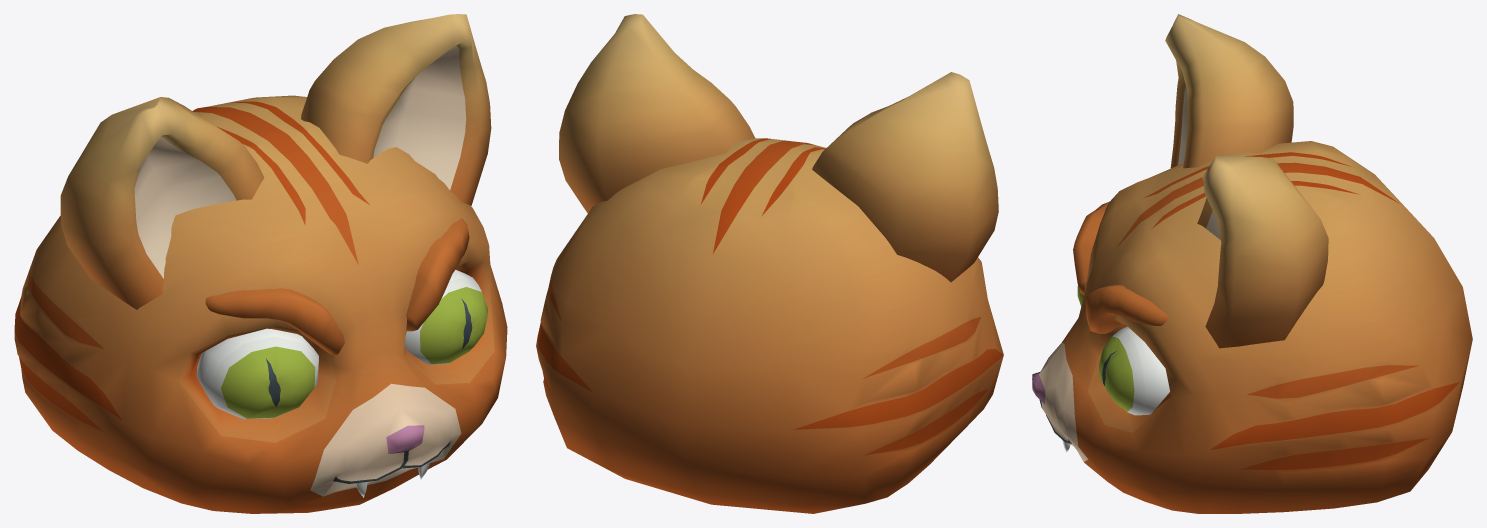
Rendered from CatAnim.fbx.
3 renders of one model, left to right at view 1: azimuth 30°, elevation 25°; view 2: azimuth 150°, elevation 25°; view 3: azimuth 270°, elevation 25°, orthographic. The views are drawn at different scales.
Visible parts, largest first — view 1: Cylinder; view 2: Cylinder; view 3: Cylinder.
Part boxes in pixels (bbox=[...]): Cylinder: bbox=[14, 14, 507, 513]; Cylinder: bbox=[536, 14, 1003, 513]; Cylinder: bbox=[1032, 14, 1472, 513].
Bounding box in the file's own units: 200 × 198 × 197.
